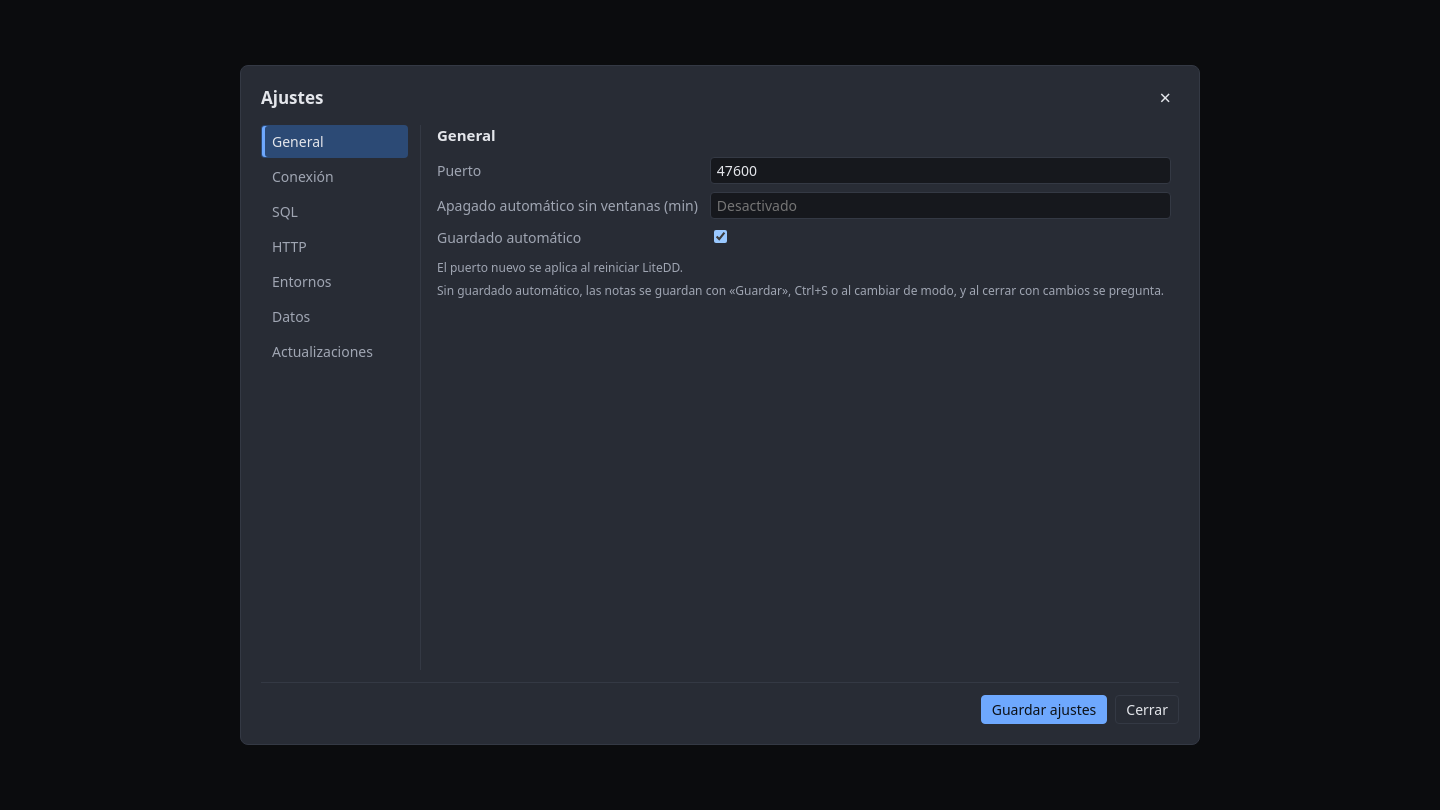
Test case: U-10 «General» y «SQL» › U-10 muestra tamaño de página, tope, tiempo, puerto y apagado automático con sus valores
The width and height of the screenshot is (1440, 810).
Check: the number field labelled "Puerto" holds "47600", box [710, 157, 1171, 184]
Check: the number field labelled "Apagado automático sin ventanas (min)" is empty, box [710, 192, 1171, 219]
Click the tab "SQL".
click(334, 212)  # box [261, 195, 408, 228]
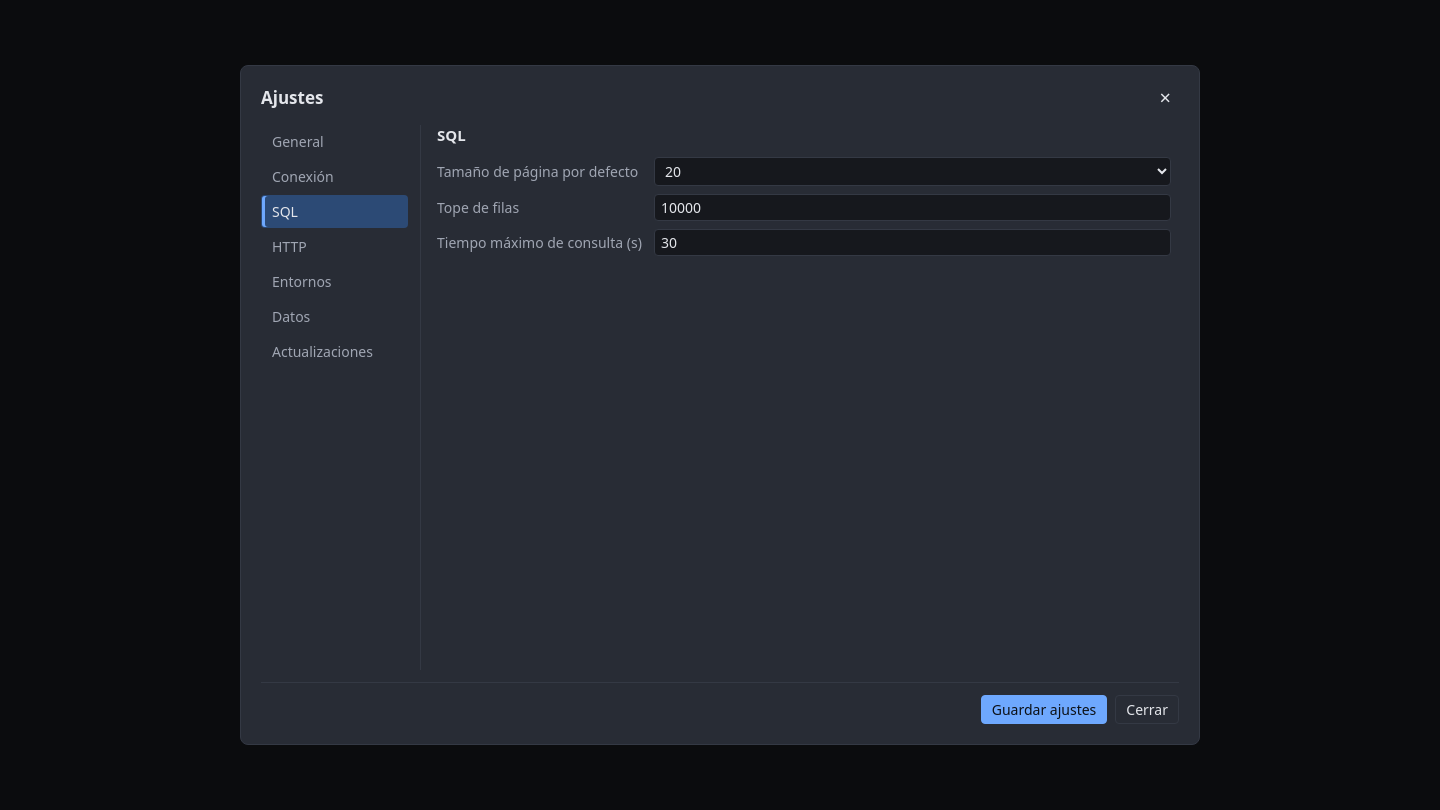
Check: the dropdown labelled "Tamaño de página por defecto" shows "20", box [654, 157, 1171, 186]
Check: the number field labelled "Tope de filas" holds "10000", box [654, 194, 1171, 221]
Check: the number field labelled "Tiempo máximo de consulta (s)" holds "30", box [654, 229, 1171, 256]
